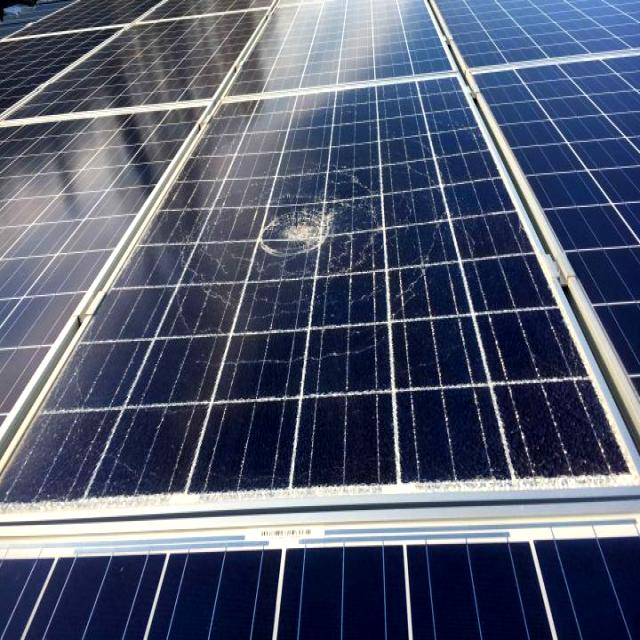hotspot: (255, 186, 364, 310)
